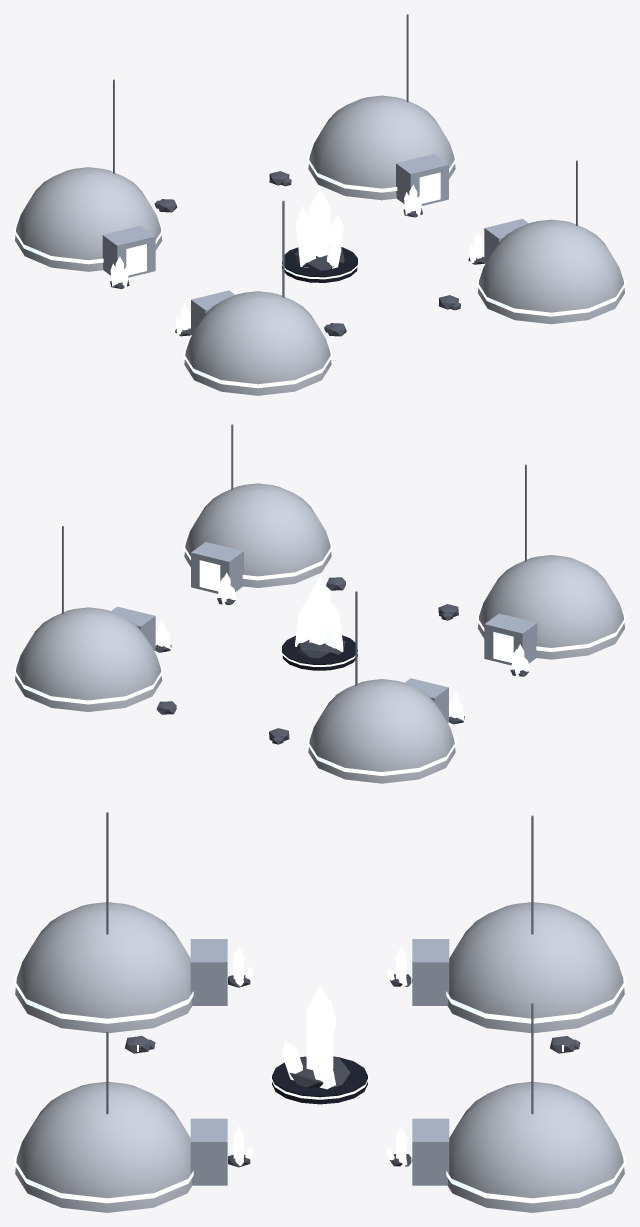
3 views of the same model, one above another, from view 1: azimuth 30°, elevation 25°; view 2: azimuth 150°, elevation 25°; view 3: azimuth 270°, elevation 25° (orthographic). The views are drawn at different scales.
Visible parts, largest first — view 1: district_city_frontera.lod1; view 2: district_city_frontera.lod1; view 3: district_city_frontera.lod1.
Boxes of the visible parts, <box> form: district_city_frontera.lod1: <box>14,14,625,395</box>; district_city_frontera.lod1: <box>14,424,625,783</box>; district_city_frontera.lod1: <box>14,812,625,1212</box>.
Size of the model in its own units: 33.12 by 11.99 by 33.12.
